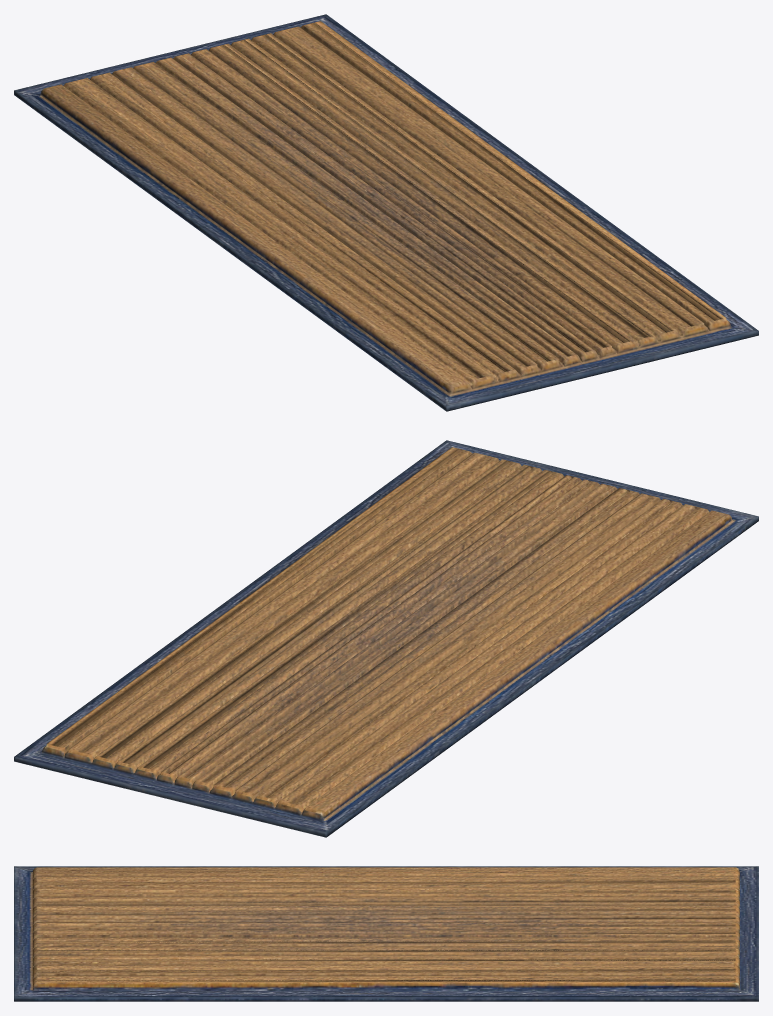
3 views of the same model, one above another, from view 1: azimuth 30°, elevation 25°; view 2: azimuth 150°, elevation 25°; view 3: azimuth 270°, elevation 25° (orthographic). The views are drawn at different scales.
Parts seen in each view (by area): view 1: tripo_node_458b4734-ddd4-47b5-ae2f-62383ef92baf; view 2: tripo_node_458b4734-ddd4-47b5-ae2f-62383ef92baf; view 3: tripo_node_458b4734-ddd4-47b5-ae2f-62383ef92baf.
Part boxes in pixels (x1,y1,x2,y2): tripo_node_458b4734-ddd4-47b5-ae2f-62383ef92baf: [14, 14, 758, 411]; tripo_node_458b4734-ddd4-47b5-ae2f-62383ef92baf: [14, 440, 758, 837]; tripo_node_458b4734-ddd4-47b5-ae2f-62383ef92baf: [14, 866, 758, 1001].
Bounding box in the file's own units: 41.68 × 2.35 × 100.
Materials: 1 (1 with a texture image).
